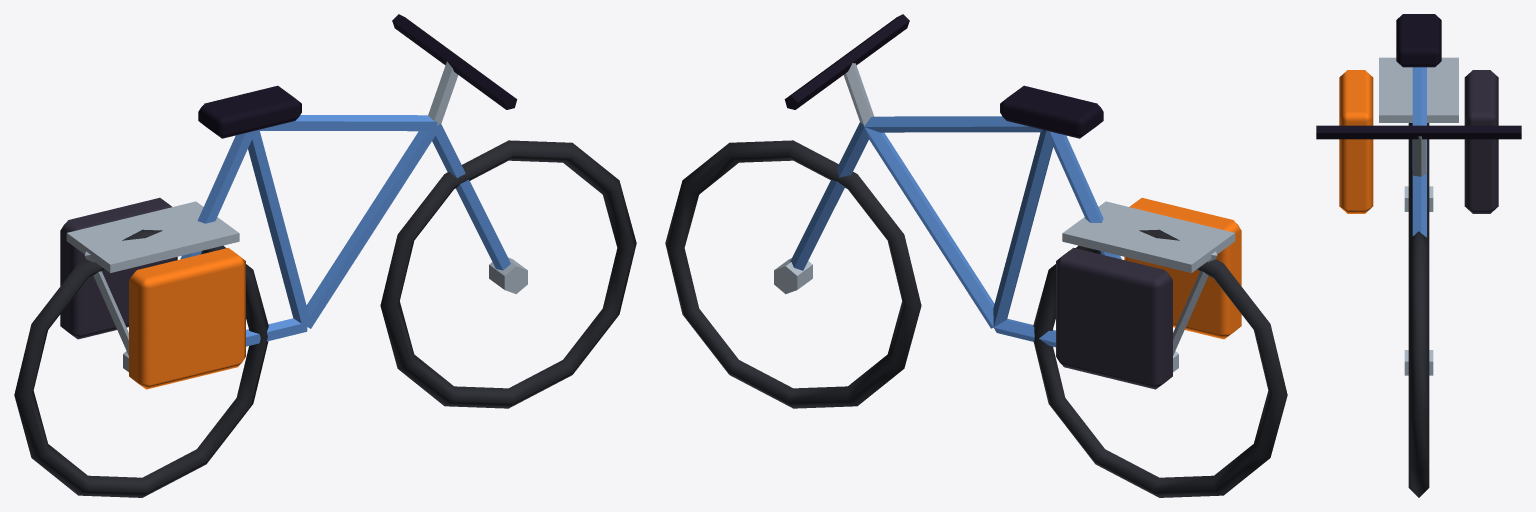
File: station_transport_ausstattung_3_0.glb
3 views of the same model, side by side, from view 1: azimuth 30°, elevation 25°; view 2: azimuth 150°, elevation 25°; view 3: azimuth 270°, elevation 25° (orthographic). The views are drawn at different scales.
Parts seen in each view (by area): view 1: station_transport_ausstattung_3_0; view 2: station_transport_ausstattung_3_0; view 3: station_transport_ausstattung_3_0.
Part boxes in pixels (left/top/right/bottom): station_transport_ausstattung_3_0: left=14, top=14, right=636, bottom=497; station_transport_ausstattung_3_0: left=665, top=14, right=1287, bottom=497; station_transport_ausstattung_3_0: left=1316, top=14, right=1521, bottom=497.
Size of the model in its own units: 1.16 by 0.658 by 0.36.
